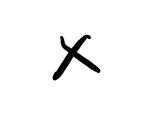mult: (52, 34, 101, 81)
